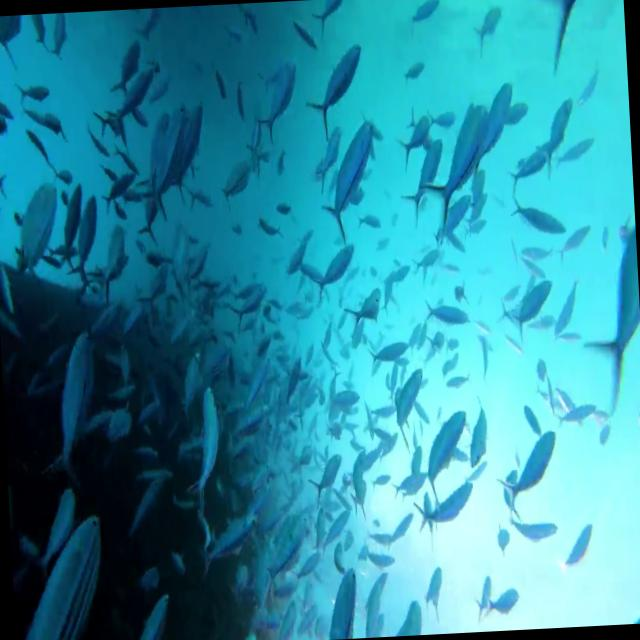fish: (569, 191, 640, 419), (418, 96, 502, 242), (18, 515, 115, 640), (48, 314, 108, 496), (311, 120, 388, 256), (143, 100, 213, 234), (302, 38, 372, 153), (458, 84, 524, 198), (184, 361, 226, 538), (495, 422, 565, 515), (100, 56, 167, 146), (416, 392, 478, 489), (415, 471, 479, 554), (501, 184, 580, 251), (534, 81, 581, 186), (254, 60, 309, 147), (396, 160, 446, 244), (68, 192, 108, 297), (50, 181, 88, 286), (502, 269, 562, 334), (105, 28, 154, 105), (324, 555, 368, 640), (389, 356, 432, 440), (502, 502, 564, 560), (499, 138, 555, 198), (122, 587, 180, 640), (298, 451, 349, 509), (313, 240, 359, 304), (420, 288, 476, 340), (359, 568, 400, 638), (94, 168, 140, 226), (560, 518, 606, 572), (344, 280, 388, 328), (278, 364, 310, 428), (396, 587, 434, 636), (286, 228, 317, 286), (486, 576, 526, 619), (134, 201, 160, 261), (16, 76, 52, 116), (48, 12, 72, 68)
